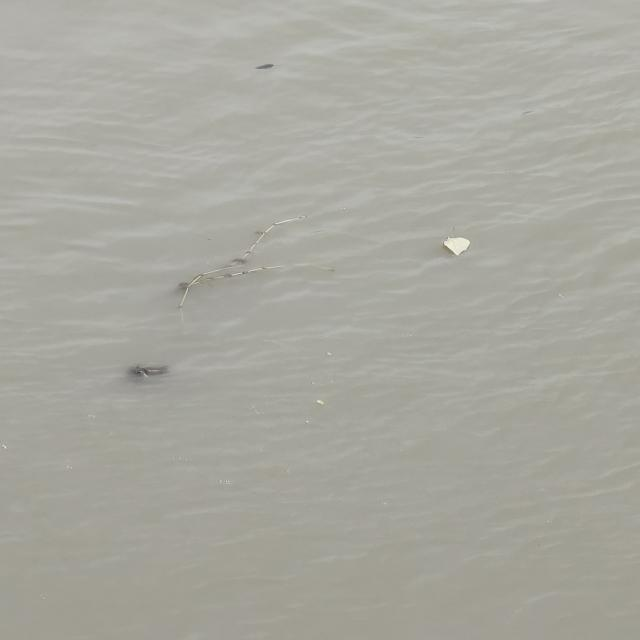Organic Debris: (160, 195, 331, 333), (120, 356, 178, 399), (424, 213, 468, 265), (244, 61, 277, 80), (315, 397, 332, 414), (319, 348, 333, 360)
